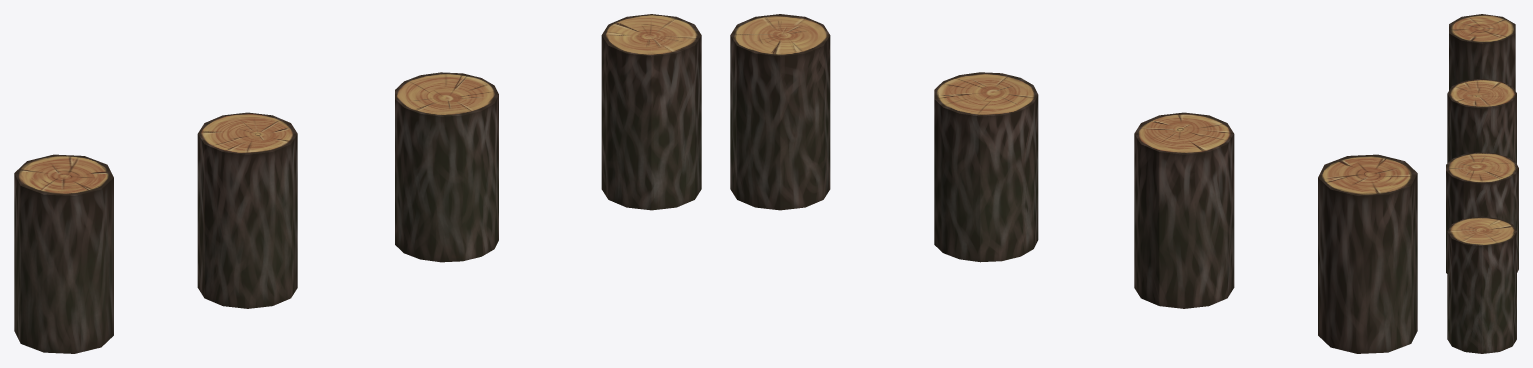
The model's file is Holz_final.fbx.
3 views of the same model, side by side, from view 1: azimuth 30°, elevation 25°; view 2: azimuth 150°, elevation 25°; view 3: azimuth 270°, elevation 25° (orthographic). The views are drawn at different scales.
Parts seen in each view (by area): view 1: Holz1.1, Holz2.2, Holz3.2, Holz4.1, Holz4.2, Holz3.1, Holz2.1, Holz1.2, Holz2.3, Holz3.3, Holz4.3, Holz4.6 (+5 smaller); view 2: Holz1.2, Holz2.3, Holz3.3, Holz3.4, Holz4.4, Holz4.3, Holz2.4, Holz1.1, Holz2.2, Holz4.2, Holz4.5, Holz3.2 (+5 smaller); view 3: Holz4.6, Holz4.5, Holz2.1, Holz1.1, Holz1.2, Holz2.4, Holz3.5, Holz3.1, Holz3.4, Holz4.1, Holz4.4, Holz2.2 (+5 smaller).
Boxes of the visible parts, <box> form: Holz1.1: <box>20,164,113,353</box>; Holz2.2: <box>204,133,272,308</box>; Holz3.2: <box>404,94,462,262</box>; Holz4.1: <box>651,35,694,210</box>; Holz4.2: <box>608,35,651,210</box>; Holz3.1: <box>447,94,498,261</box>; Holz2.1: <box>248,123,297,305</box>; Holz1.2: <box>14,154,106,342</box>; Holz2.3: <box>197,115,247,297</box>; Holz3.3: <box>395,81,445,252</box>; Holz4.3: <box>601,24,650,198</box>; Holz4.6: <box>652,24,701,198</box>; Holz1.2: <box>1318,164,1411,353</box>; Holz2.3: <box>1159,133,1227,308</box>; Holz3.3: <box>980,94,1033,262</box>; Holz3.4: <box>934,94,985,261</box>; Holz4.4: <box>737,35,780,210</box>; Holz4.3: <box>780,35,823,210</box>; Holz2.4: <box>1134,123,1183,305</box>; Holz1.1: <box>1325,154,1417,342</box>; Holz2.2: <box>1184,115,1234,297</box>; Holz4.2: <box>781,24,830,198</box>; Holz4.5: <box>730,24,779,198</box>; Holz3.2: <box>986,78,1038,248</box>; Holz4.6: <box>1452,231,1482,353</box>; Holz4.5: <box>1482,231,1512,353</box>; Holz2.1: <box>1447,93,1482,162</box>; Holz1.1: <box>1449,14,1482,90</box>; Holz1.2: <box>1482,14,1515,90</box>; Holz2.4: <box>1482,93,1516,163</box>; Holz3.5: <box>1463,168,1506,221</box>; Holz3.1: <box>1446,164,1481,273</box>; Holz3.4: <box>1482,161,1518,272</box>; Holz4.1: <box>1447,224,1481,345</box>; Holz4.4: <box>1482,224,1516,346</box>; Holz2.2: <box>1447,79,1482,93</box>.
Size of the model in its own units: 2229 by 500 by 298.
